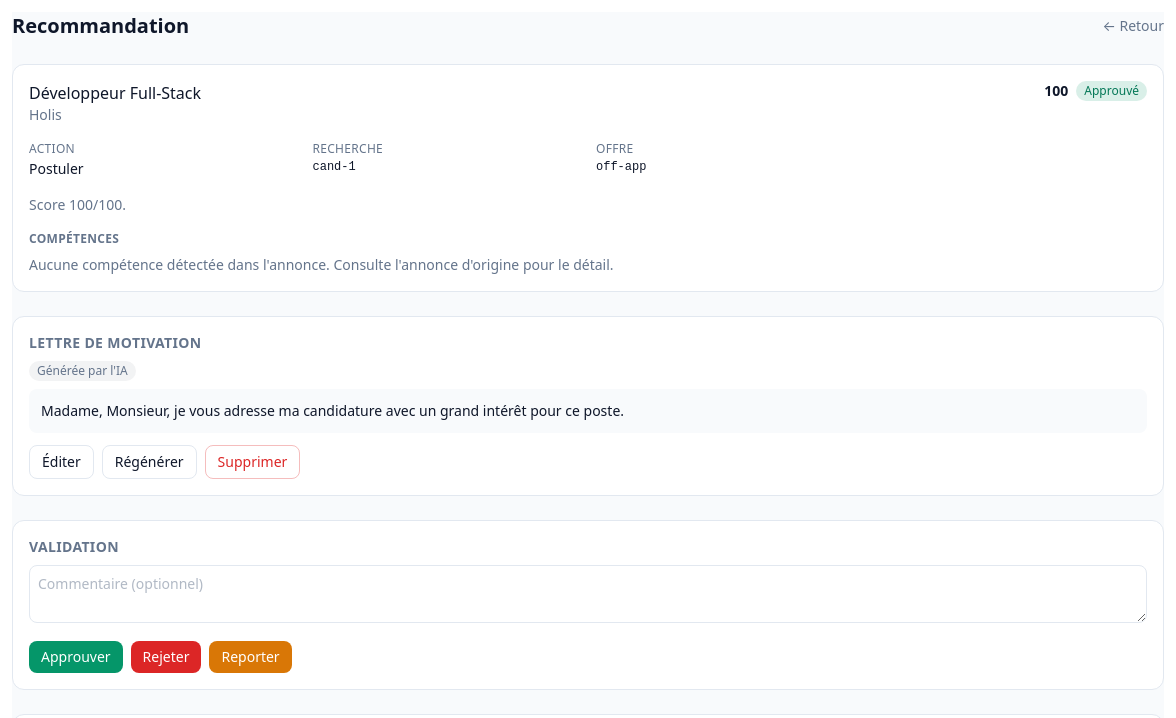
Test case: LetterPanel (OPP-147) › édition : Éditer → modifier → Enregistrer envoie un PUT et passe en « Éditée à la main »
Click the button "Éditer".
click(61, 462)  # box [29, 445, 94, 479]
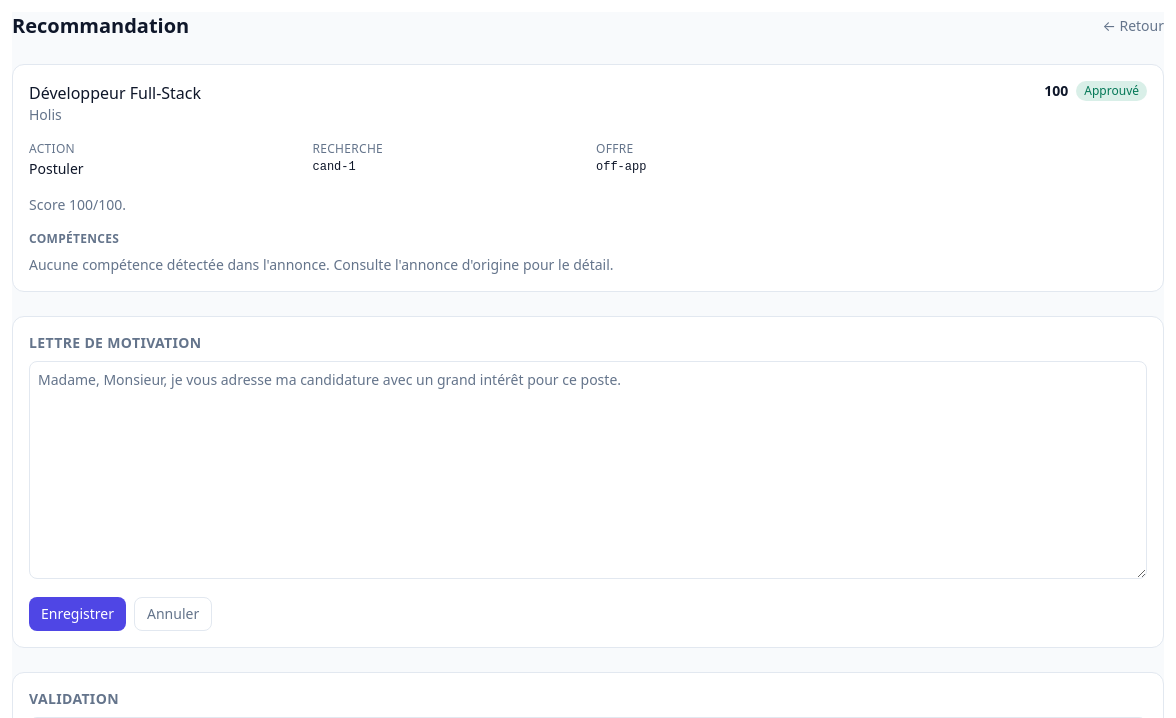
Replace the text in the text box named "Corps de la lettre" with "Version corrigée à la main par la candidate, bien assez longue." at point(588, 470), box [29, 361, 1147, 579]
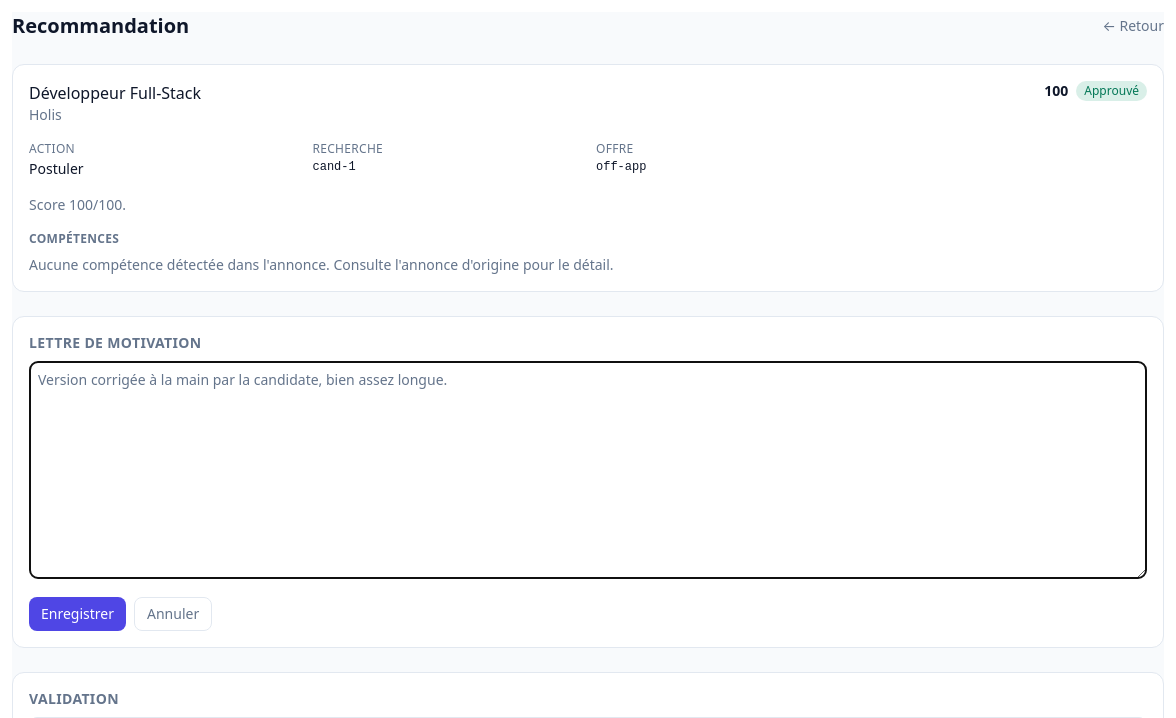
Click the button "Enregistrer".
click(78, 614)  # box [29, 597, 126, 631]
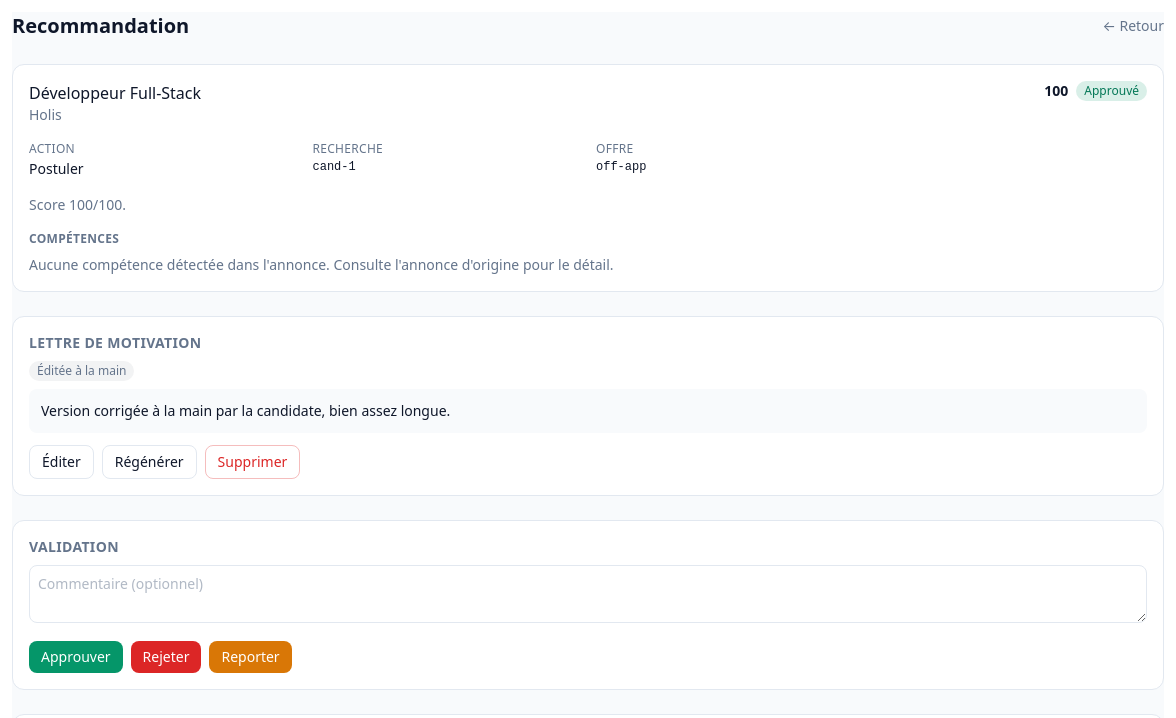
Check: the text "Éditée à la main" is shown, box [29, 361, 134, 381]
